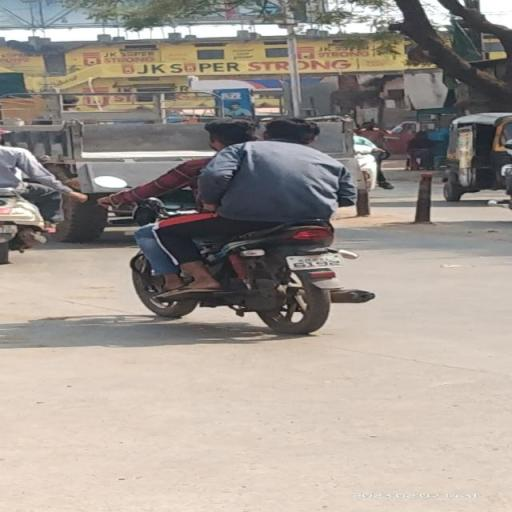bike: (94, 113, 384, 336)
withouthelmet: (267, 115, 320, 141), (207, 119, 253, 144)
